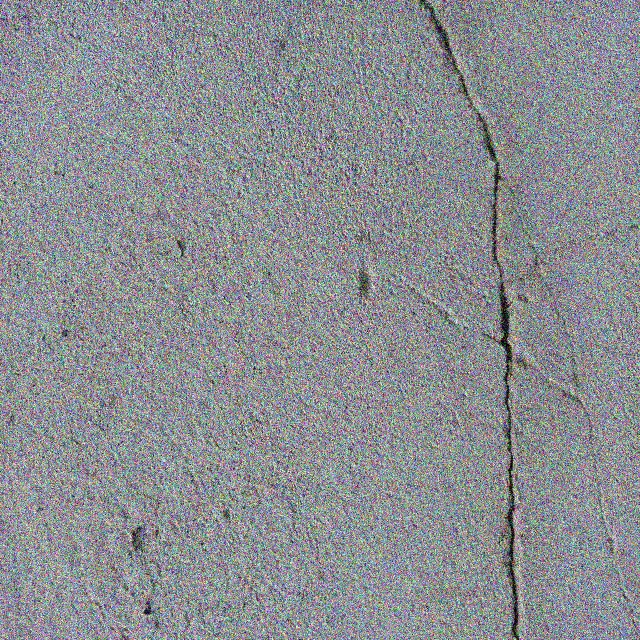SurfaceCrack: (382, 0, 556, 639)
